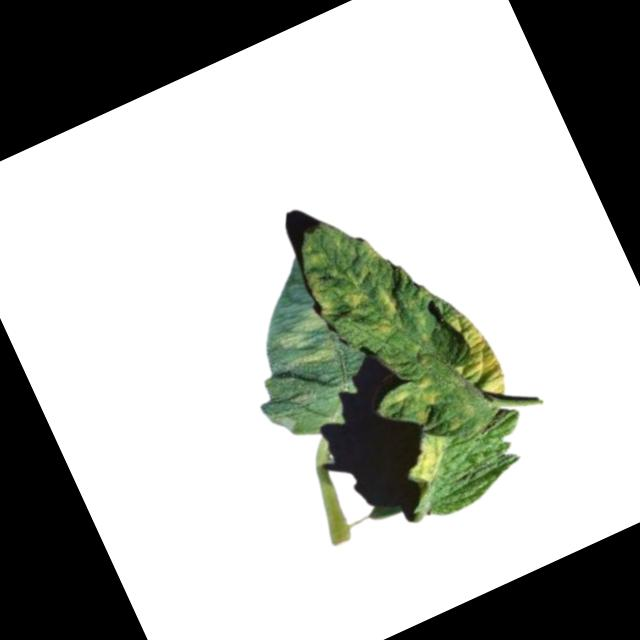Leaf_Mold: (430, 289, 513, 408), (264, 306, 342, 380), (341, 276, 410, 348), (386, 370, 451, 431), (398, 430, 456, 487)
